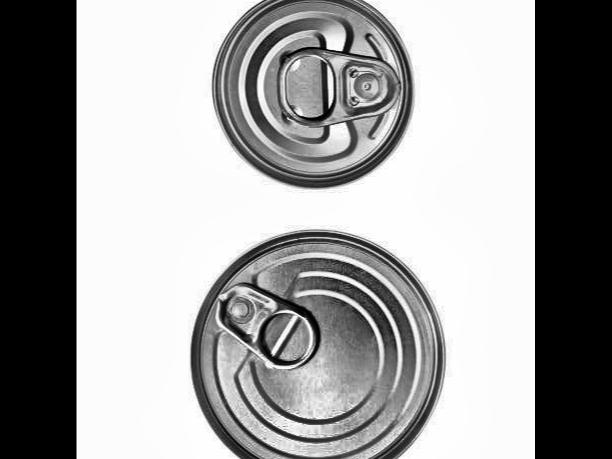can: (177, 211, 466, 459), (190, 0, 437, 193)
